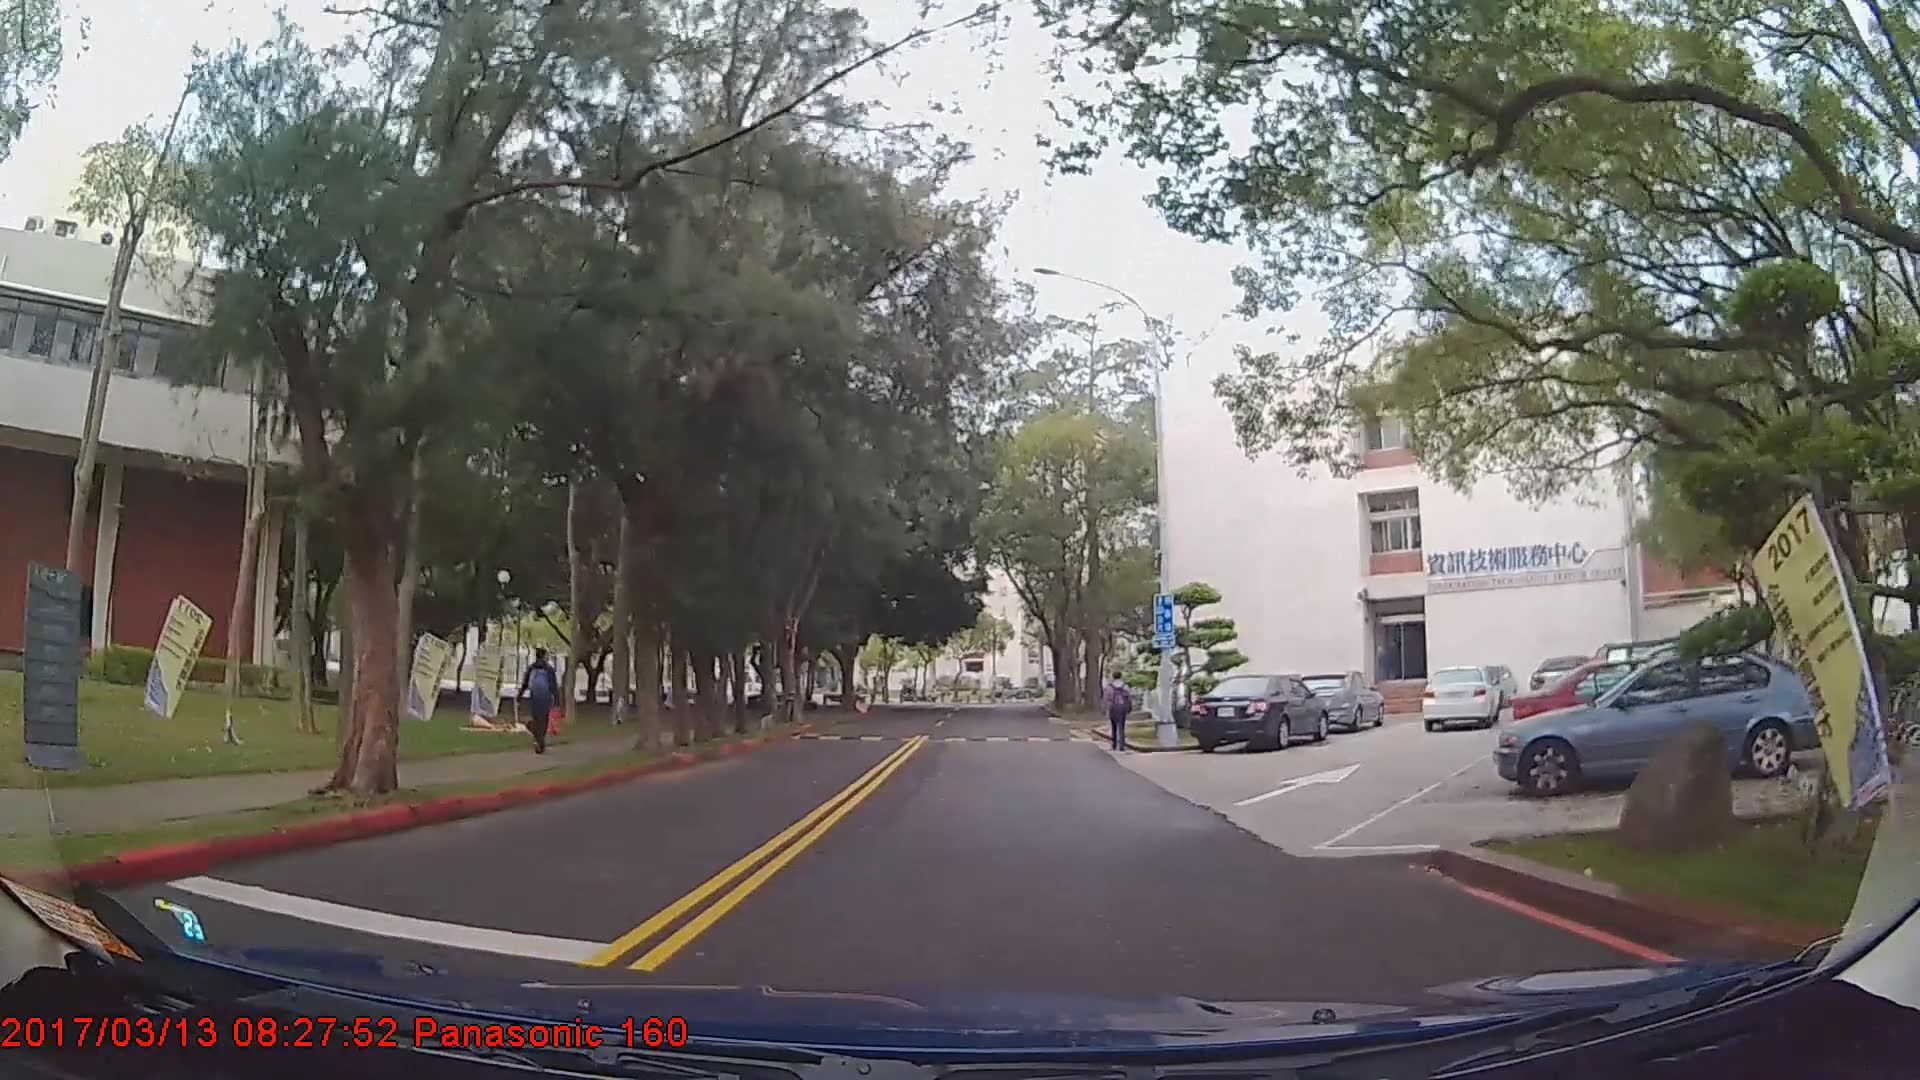pedestrian: (523, 646, 561, 757), (1104, 672, 1133, 755)
vehicle: (1495, 645, 1843, 798), (1189, 675, 1330, 757), (1294, 670, 1386, 733), (1418, 665, 1501, 733)
